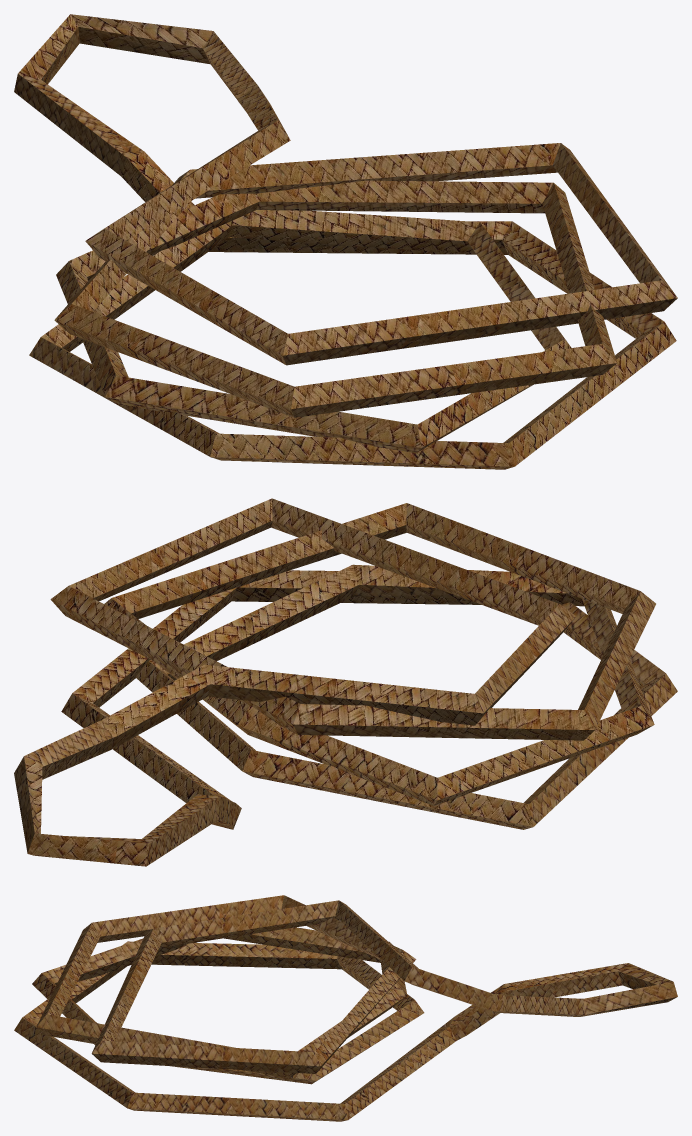
File: WZMOCNIONA_CIECIWA.glb
3 renders of one model, top to bottom at view 1: azimuth 30°, elevation 25°; view 2: azimuth 150°, elevation 25°; view 3: azimuth 270°, elevation 25°, orthographic. The views are drawn at different scales.
Parts seen in each view (by area): view 1: WZMOCNIONA_CIECIWA; view 2: WZMOCNIONA_CIECIWA; view 3: WZMOCNIONA_CIECIWA.
Boxes of the visible parts, <box> form: WZMOCNIONA_CIECIWA: <box>14,14,677,469</box>; WZMOCNIONA_CIECIWA: <box>14,498,677,866</box>; WZMOCNIONA_CIECIWA: <box>14,895,677,1121</box>.
Bounding box in the file's own units: 0.4551 × 0.112 × 0.7025.
1 material, 1 textured.
